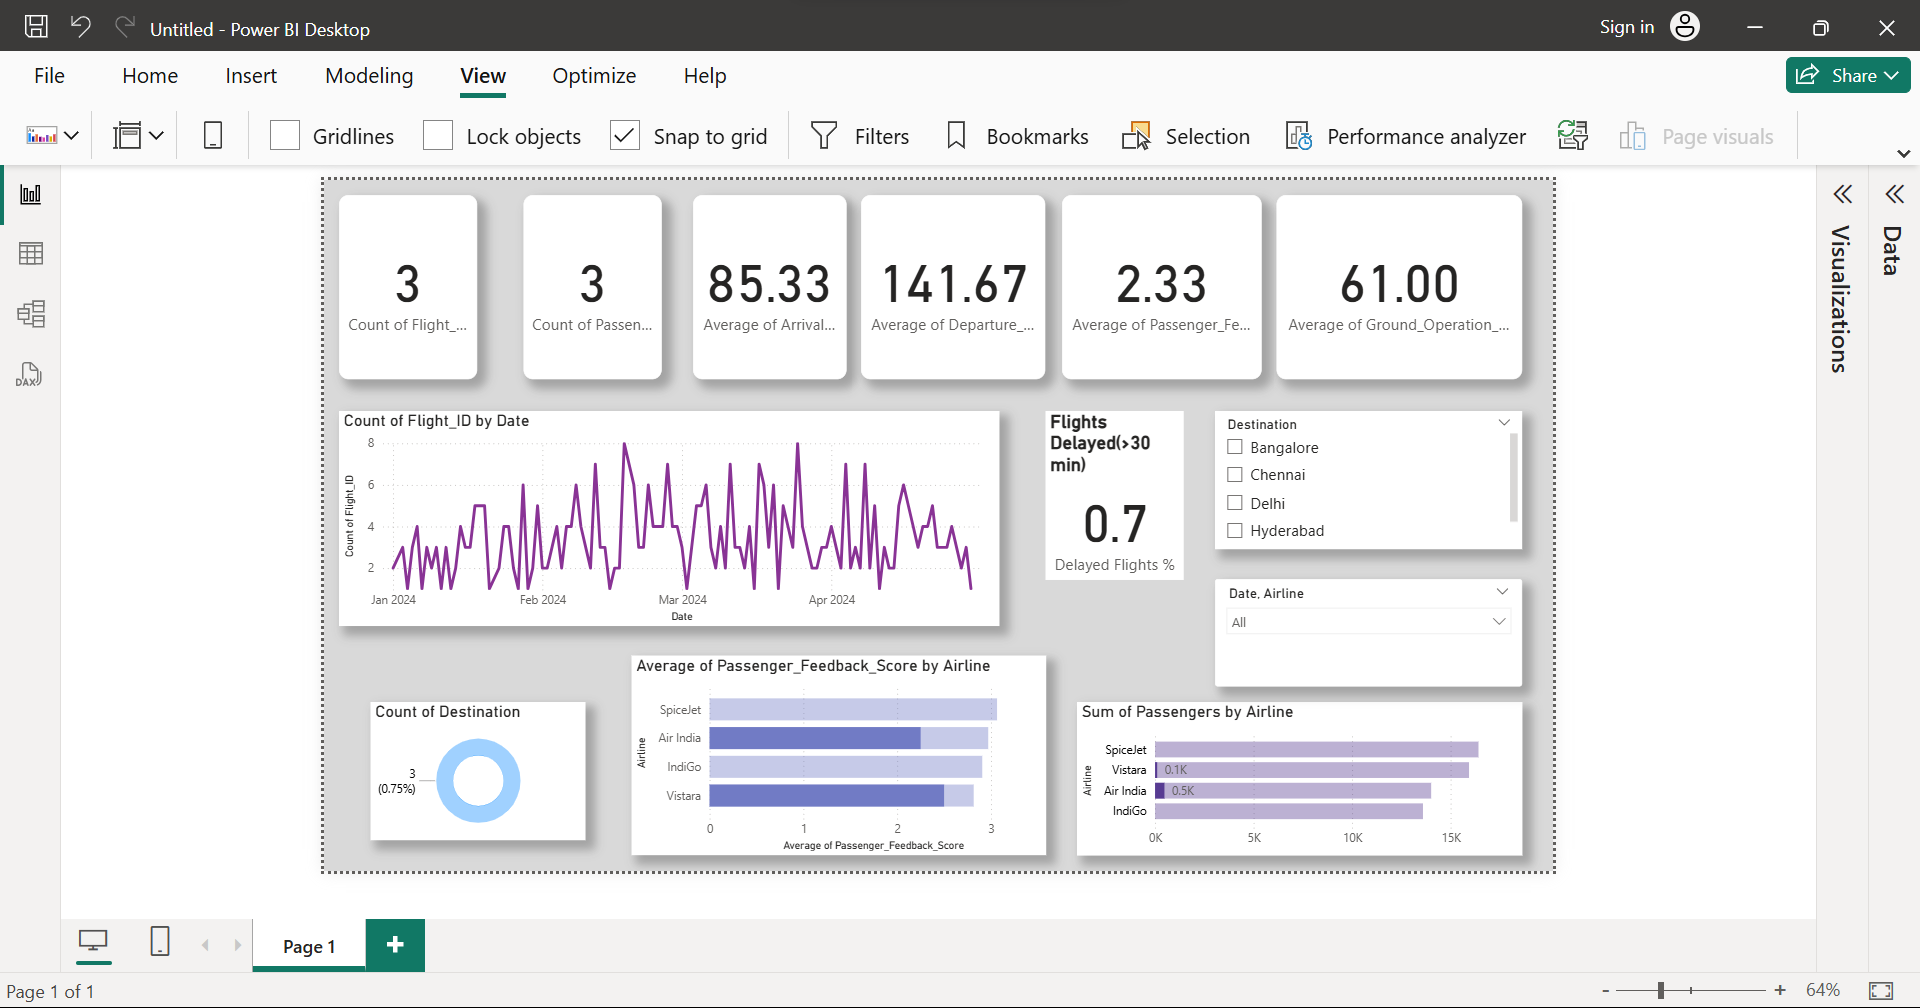

This screenshot's page, from the dashboard's own definition file:
{"tool":"powerbi","page":{"name":"Page 1","canvas":[1280,720],"ordinal":0},"visuals":[{"type":"card","fields":{"Values":["Avg(airport_authority_operations_da.Arrival_Delay_Minutes)"]},"box":[384,16,160,192],"z":0},{"type":"card","fields":{"Values":["Avg(airport_authority_operations_da.Departure_Delay_Minutes)"]},"box":[560,16,192,192],"z":1000},{"type":"card","fields":{"Values":["Avg(airport_authority_operations_da.Passenger_Feedback_Score)"]},"box":[768,16,208,192],"z":2000},{"type":"card","fields":{"Values":["Avg(airport_authority_operations_da.Ground_Operation_Time_Minutes)"]},"box":[992,16,256,192],"z":3000},{"type":"card","fields":{"Values":["CountNonNull(airport_authority_operations_da.Passengers)"]},"box":[208,16,144,192],"z":4000},{"type":"card","fields":{"Values":["CountNonNull(airport_authority_operations_da.Flight_ID)"]},"box":[16,16,144,192],"z":5000},{"type":"lineChart","fields":{"Category":["airport_authority_operations_da.Date"],"Y":["CountNonNull(airport_authority_operations_da.Flight_ID)"]},"box":[16,240,688,224],"z":6000},{"type":"clusteredBarChart","fields":{"Y":["Sum(airport_authority_operations_da.Passengers)"],"Category":["airport_authority_operations_da.Airline"]},"box":[784,544,464,160],"z":7000},{"type":"donutChart","fields":{"Y":["CountNonNull(airport_authority_operations_da.Destination)"]},"box":[48,544,224,144],"z":8000},{"type":"barChart","fields":{"Y":["Avg(airport_authority_operations_da.Passenger_Feedback_Score)"],"Category":["airport_authority_operations_da.Airline"]},"box":[320,496,432,208],"z":9000},{"type":"slicer","fields":{"Values":["airport_authority_operations_da.Date","airport_authority_operations_da.Airline"]},"box":[928,416,320,112],"z":10000},{"type":"slicer","fields":{"Values":["airport_authority_operations_da.Destination"]},"box":[928,240,320,144],"z":11000},{"type":"card","title":"Flights Delayed(>30 min)","fields":{"Values":["airport_authority_operations_da.Delayed Flights %"]},"box":[752,240,144,176],"z":12000}]}

Visuals, with their boxes on the page's 1280x720 design canvas (x1, y1, x2, y2). These are canvas units, not pixel positions in the 1920x1008 screenshot, which may show the page scaled, cropped or inside an application window:
card - Avg(airport_authority_operations_da.Arrival_Delay_Minutes): [384,16,544,208]
card - Avg(airport_authority_operations_da.Departure_Delay_Minutes): [560,16,752,208]
card - Avg(airport_authority_operations_da.Passenger_Feedback_Score): [768,16,976,208]
card - Avg(airport_authority_operations_da.Ground_Operation_Time_Minutes): [992,16,1248,208]
card - CountNonNull(airport_authority_operations_da.Passengers): [208,16,352,208]
card - CountNonNull(airport_authority_operations_da.Flight_ID): [16,16,160,208]
lineChart - airport_authority_operations_da.Date x CountNonNull(airport_authority_operations_da.Flight_ID): [16,240,704,464]
clusteredBarChart - Sum(airport_authority_operations_da.Passengers) x airport_authority_operations_da.Airline: [784,544,1248,704]
donutChart - CountNonNull(airport_authority_operations_da.Destination): [48,544,272,688]
barChart - Avg(airport_authority_operations_da.Passenger_Feedback_Score) x airport_authority_operations_da.Airline: [320,496,752,704]
slicer - airport_authority_operations_da.Date x airport_authority_operations_da.Airline: [928,416,1248,528]
slicer - airport_authority_operations_da.Destination: [928,240,1248,384]
"Flights Delayed(>30 min)" card: [752,240,896,416]
